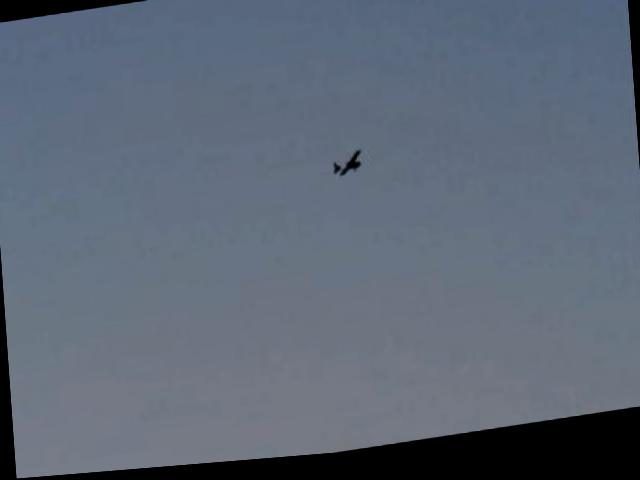uav: (326, 143, 368, 198)
